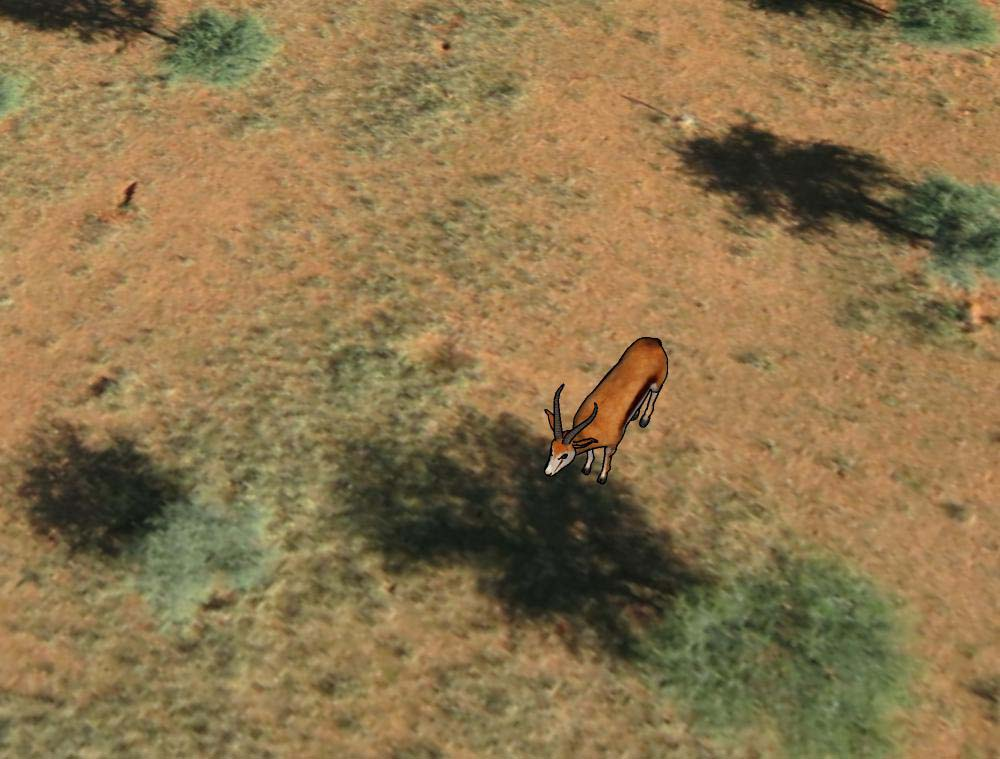springbok: (542, 331, 666, 486)
